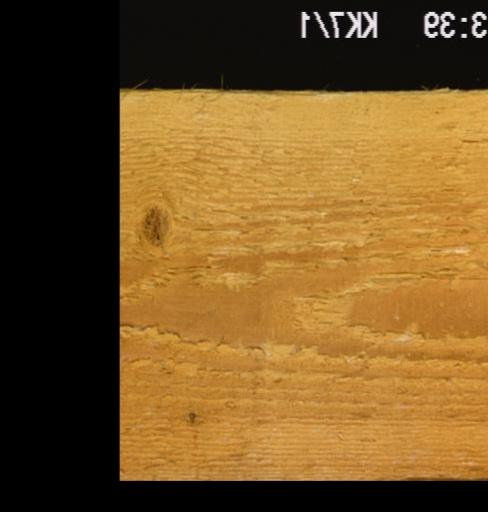small_knot: (181, 407, 198, 427)
sound_knot: (136, 203, 173, 250)
